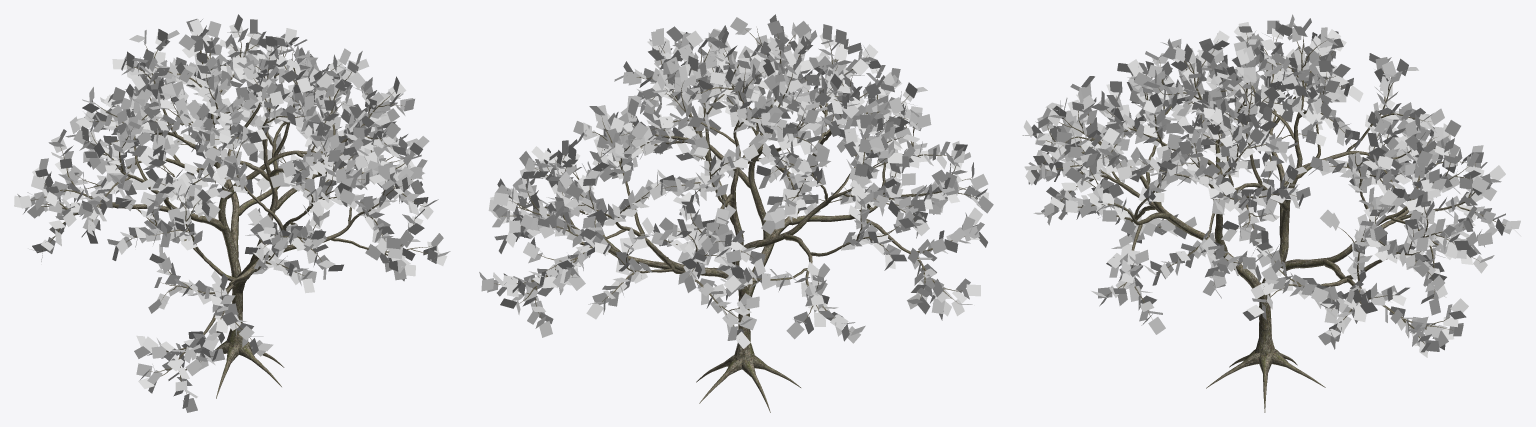
File: LemonTreeNormal.fbx
3 views of the same model, side by side, from view 1: azimuth 30°, elevation 25°; view 2: azimuth 150°, elevation 25°; view 3: azimuth 270°, elevation 25° (orthographic). The views are drawn at different scales.
Parts seen in each view (by area): view 1: foliage, structure; view 2: foliage, structure; view 3: foliage, structure.
Boxes of the visible parts, <box> form: foliage: <box>14,14,450,412</box>; structure: <box>31,30,431,398</box>; foliage: <box>479,14,993,351</box>; structure: <box>494,28,979,412</box>; foliage: <box>1022,14,1520,357</box>; structure: <box>1033,33,1505,412</box>.
Bounding box in the file's own units: 565 × 481 × 605.
